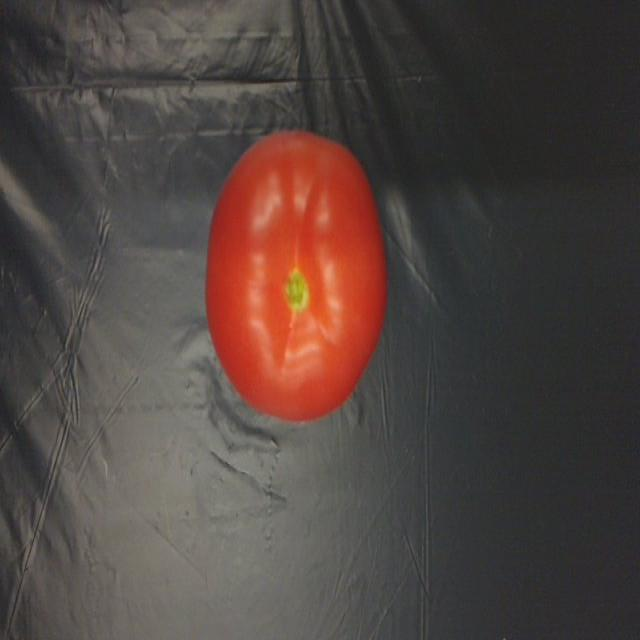kirmizi: (203, 132, 381, 430)
